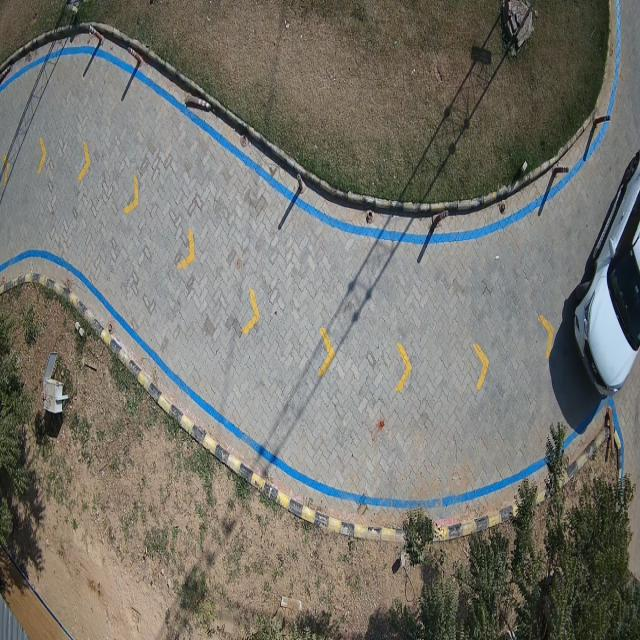car: (574, 151, 640, 398)
